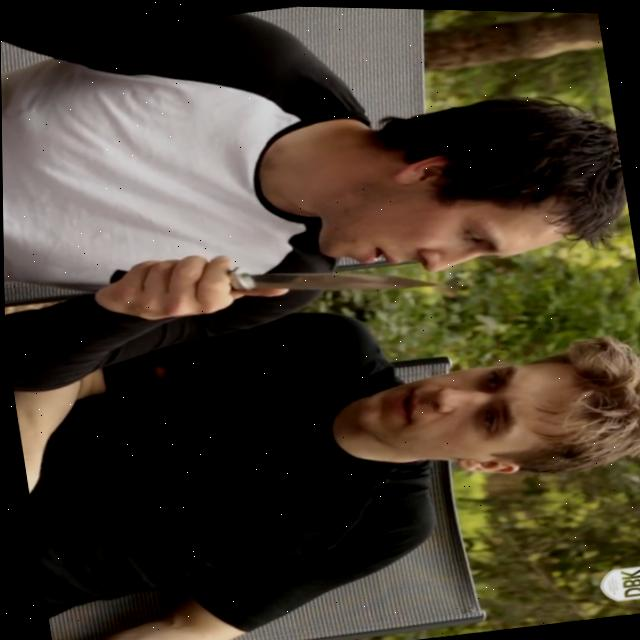knife: (222, 226, 438, 313)
